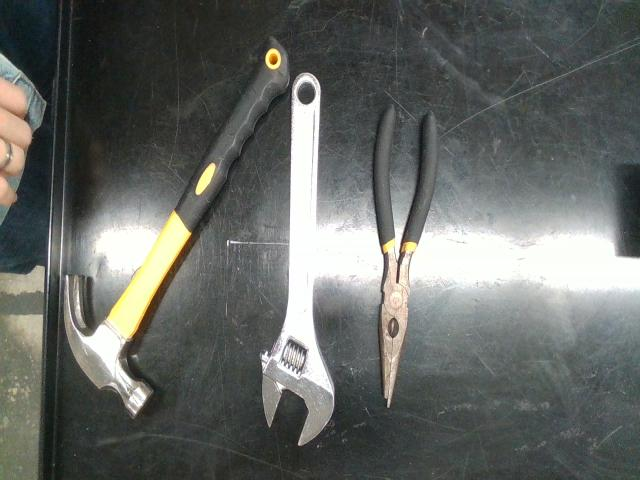Adjustable spanner: (260, 73, 334, 445)
Hammer: (64, 37, 290, 417)
Hand: (0, 77, 32, 206)
Needle-nose pliers: (374, 107, 438, 406)
